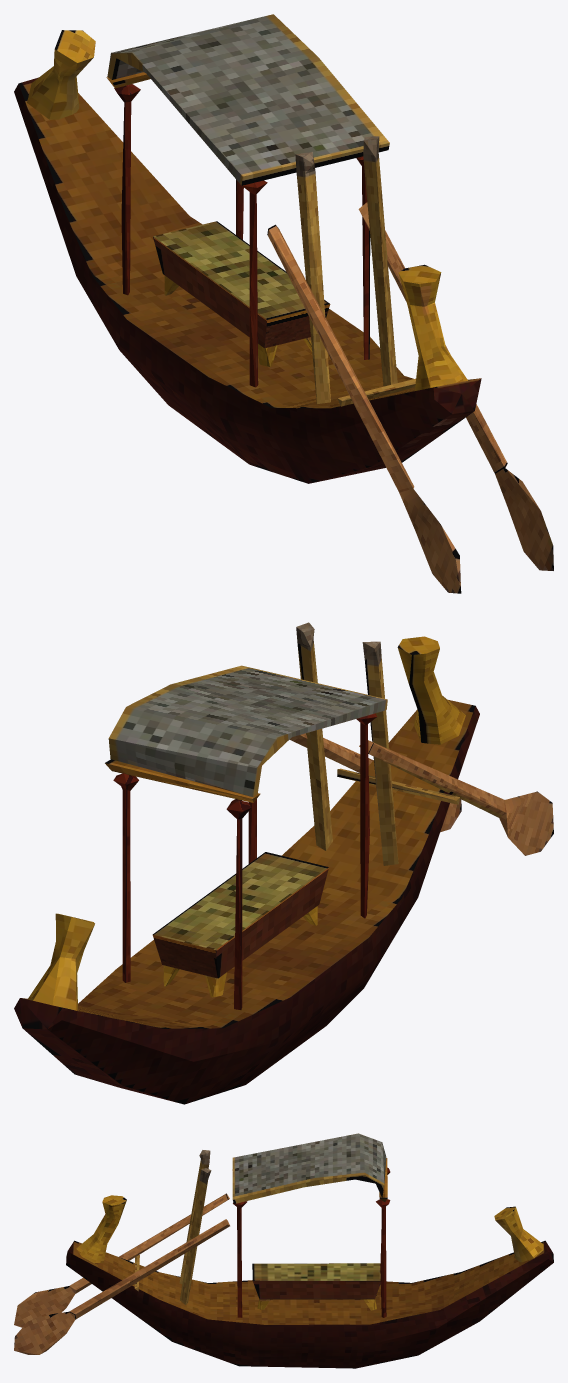
Rendered from Egyptian Boat.fbx.
3 views of the same model, one above another, from view 1: azimuth 30°, elevation 25°; view 2: azimuth 150°, elevation 25°; view 3: azimuth 270°, elevation 25° (orthographic). The views are drawn at different scales.
Visible parts, largest first — view 1: Egyptian Boat; view 2: Egyptian Boat; view 3: Egyptian Boat.
Boxes of the visible parts, x1=… form: Egyptian Boat: x1=14, y1=14, x2=553, y2=593; Egyptian Boat: x1=14, y1=622, x2=553, y2=1104; Egyptian Boat: x1=14, y1=1133, x2=553, y2=1368.
Size of the model in its own units: 78.47 by 163 by 392.
